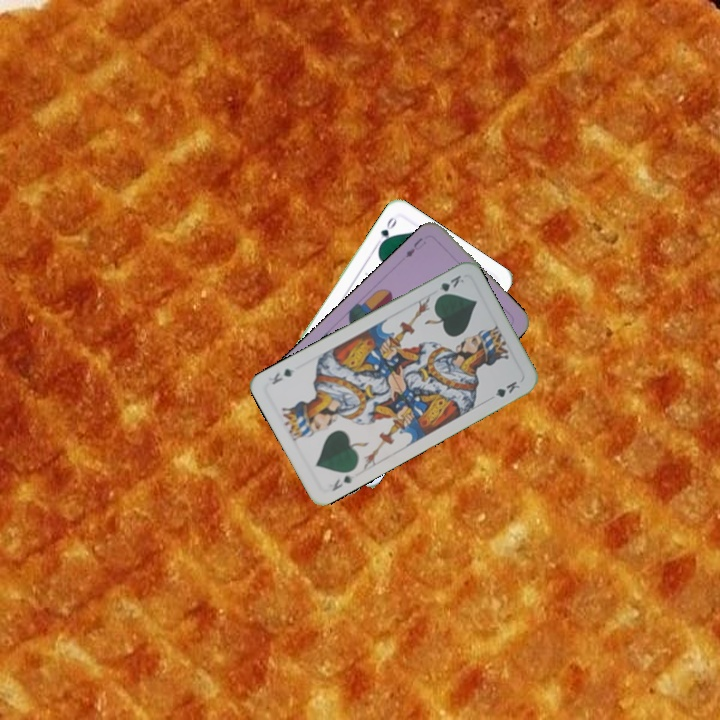EU: (401, 233, 429, 260)
GK: (432, 271, 467, 301), (328, 471, 357, 494)
GO: (375, 213, 400, 250)
